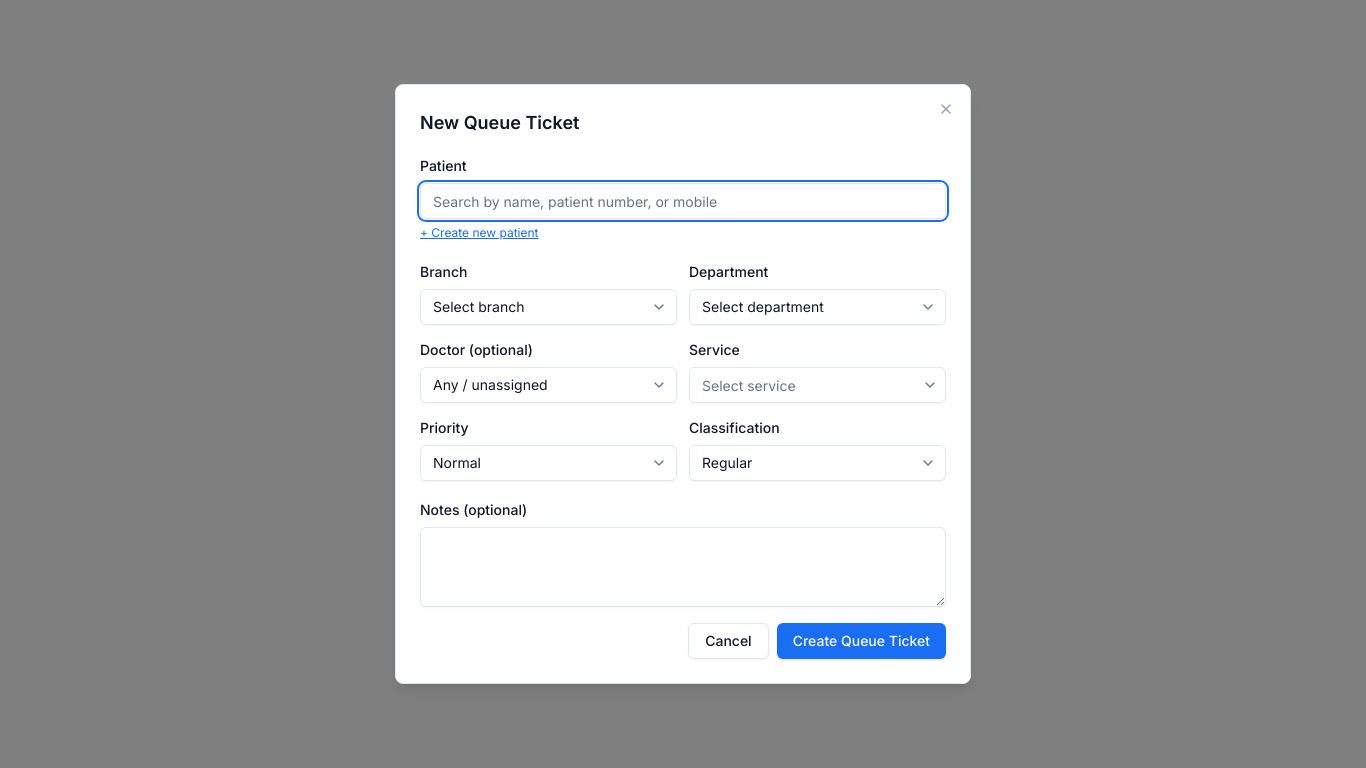
NewQueueDialog › department-aware Service filtering › does not offer a department-assigned service under a different department
Type "Juan" into the field with placeholder "Search by name, patient number, or mobile" at [683, 201], box [420,183,946,219]
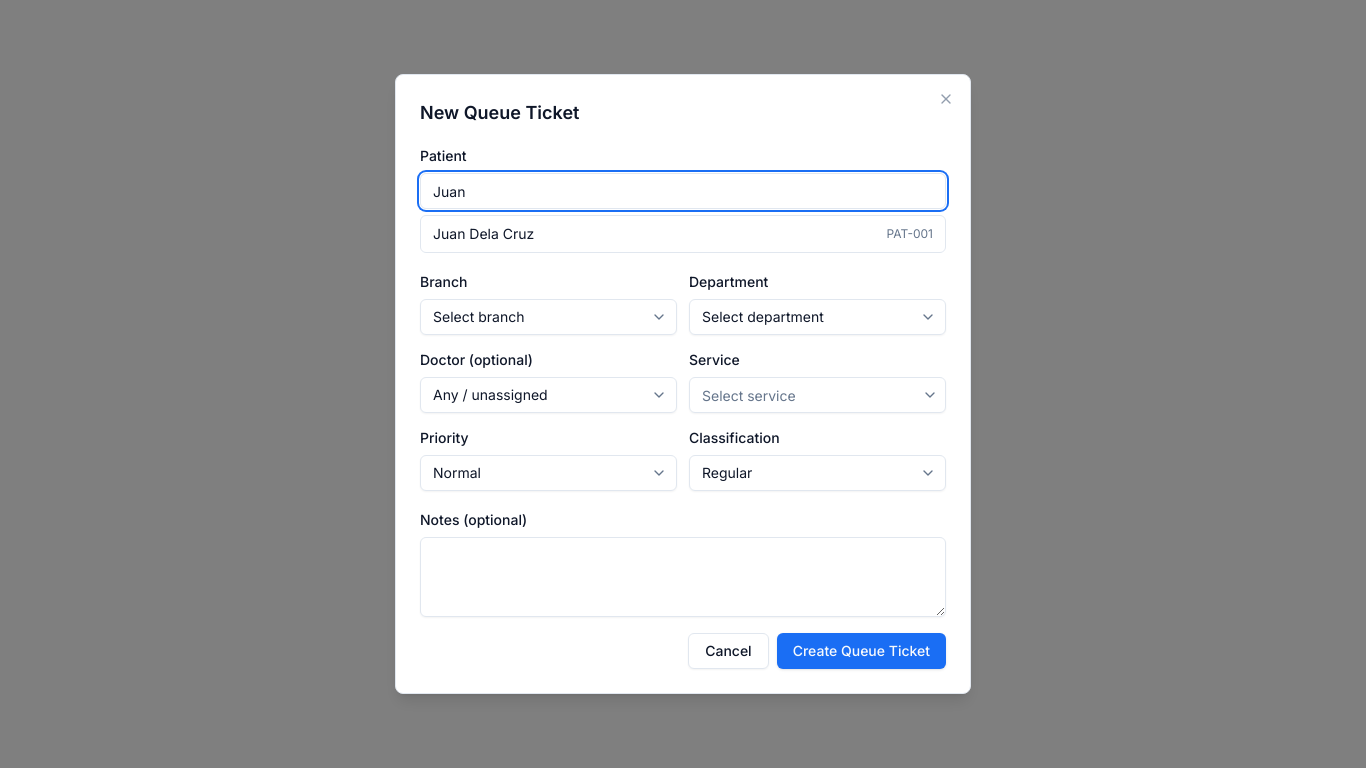
Click the text "Juan Dela Cruz" at [484, 234], box [433,224,534,244]
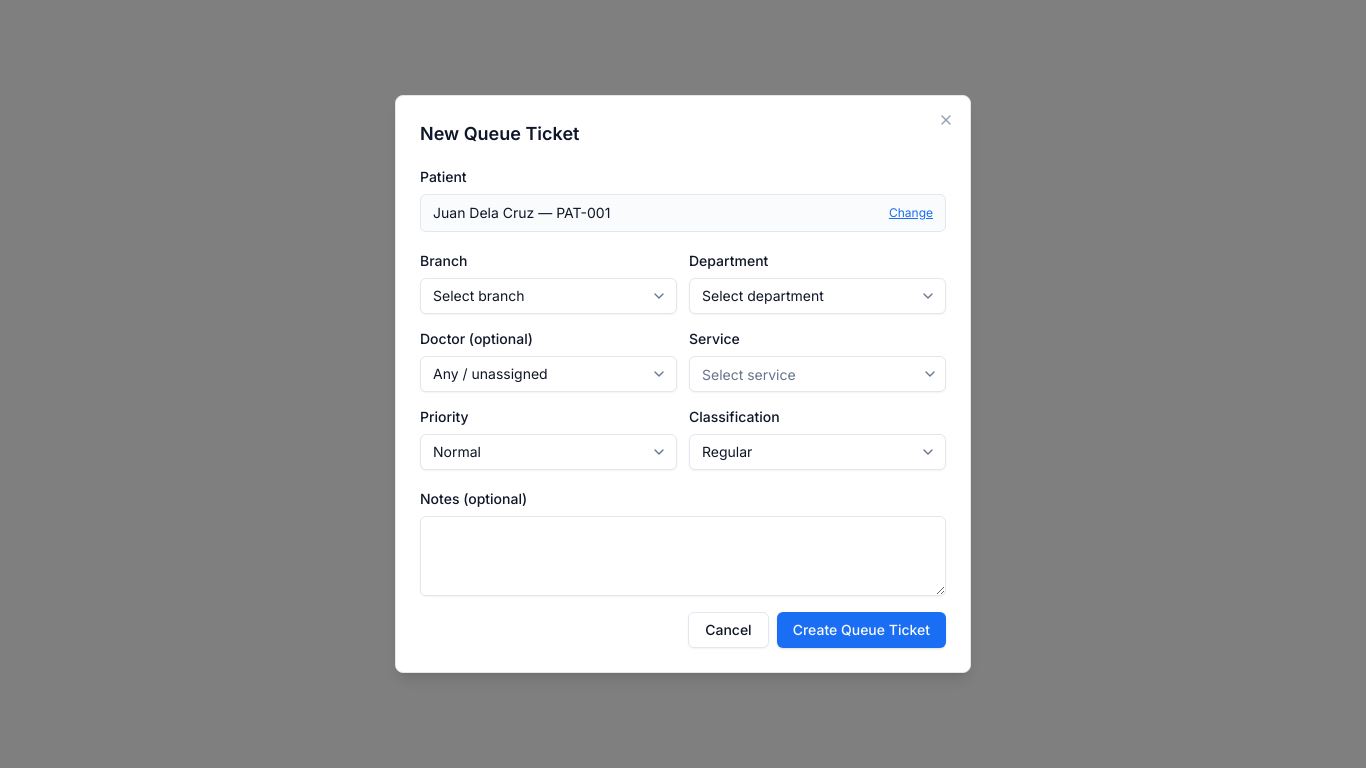
Select "Internal Medicine" in the dropdown below "Department" at [818, 296], box [689,278,946,314]
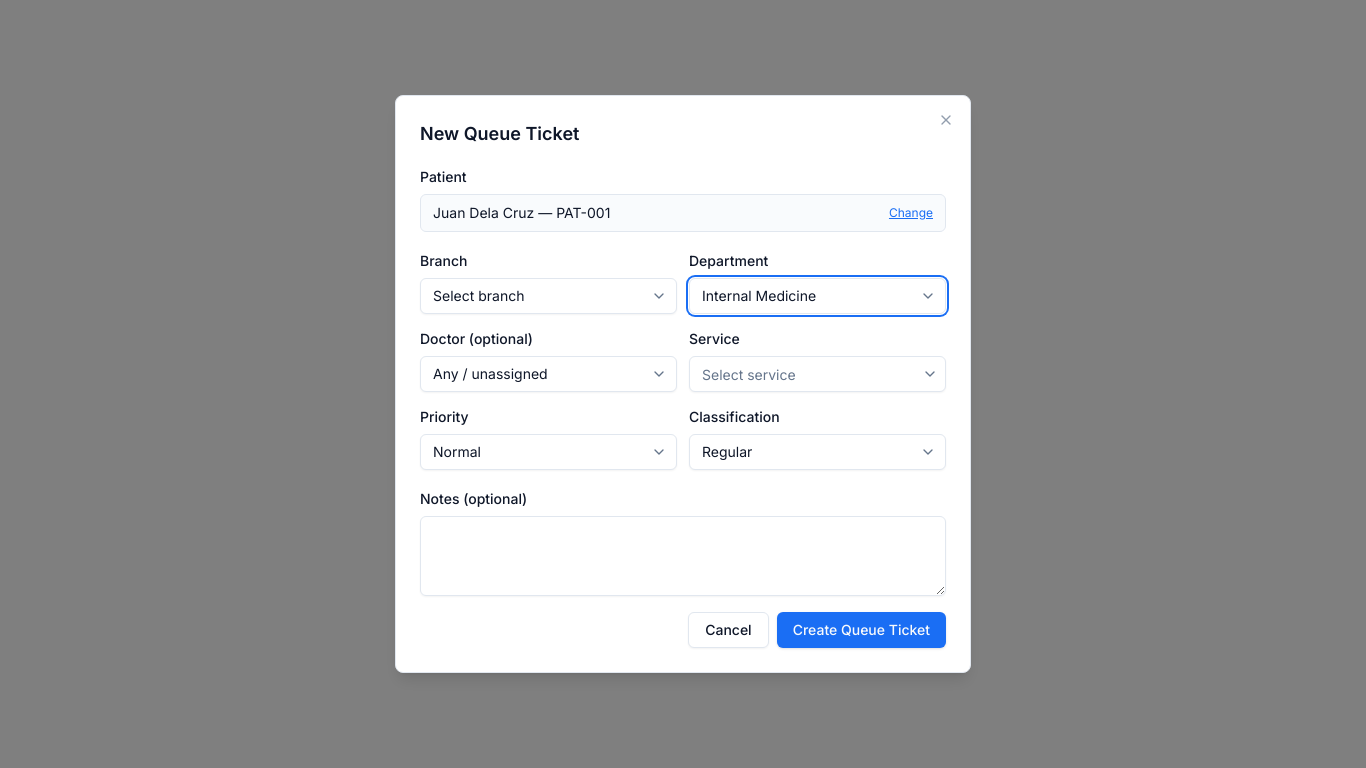
Select "Main Branch" in the dropdown below "Branch" at [548, 296], box [420,278,677,314]
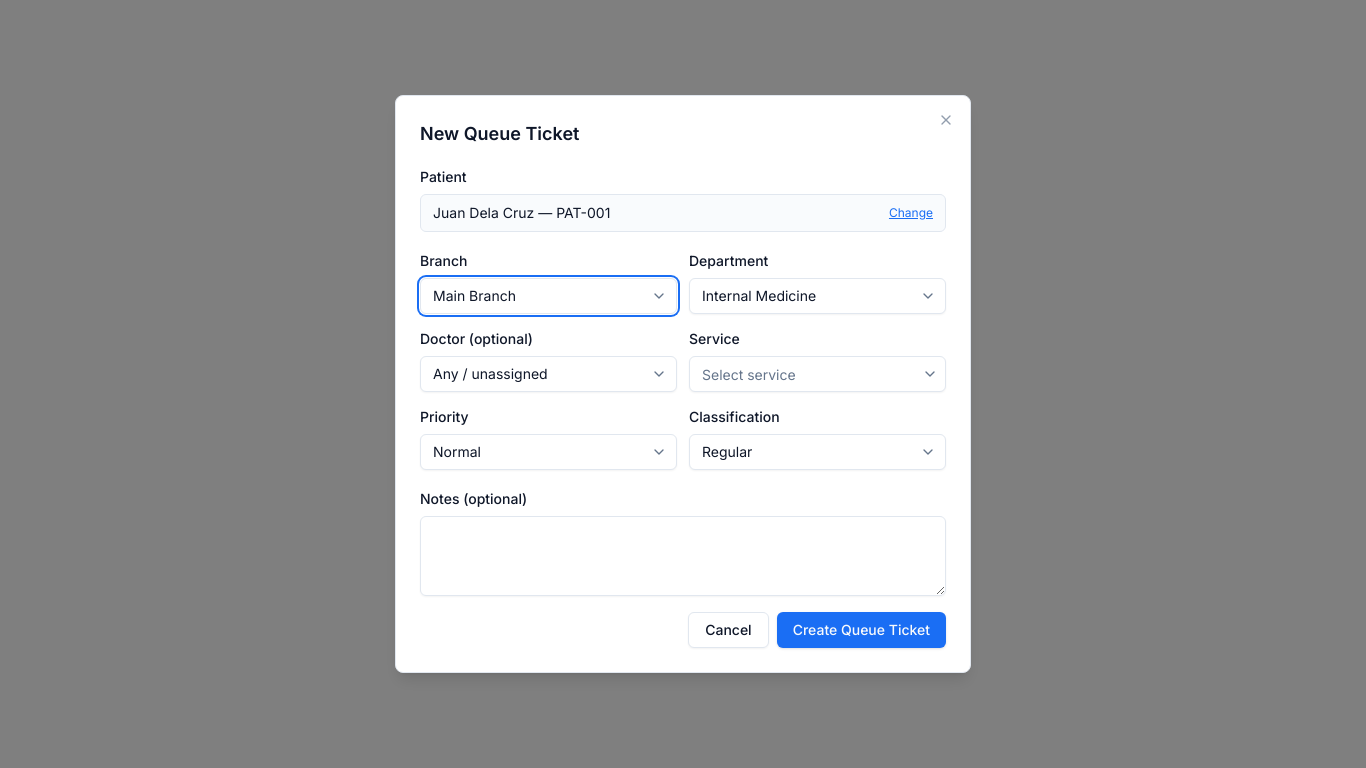
Click the field with placeholder "Select service" at [818, 374], box [689,356,946,392]
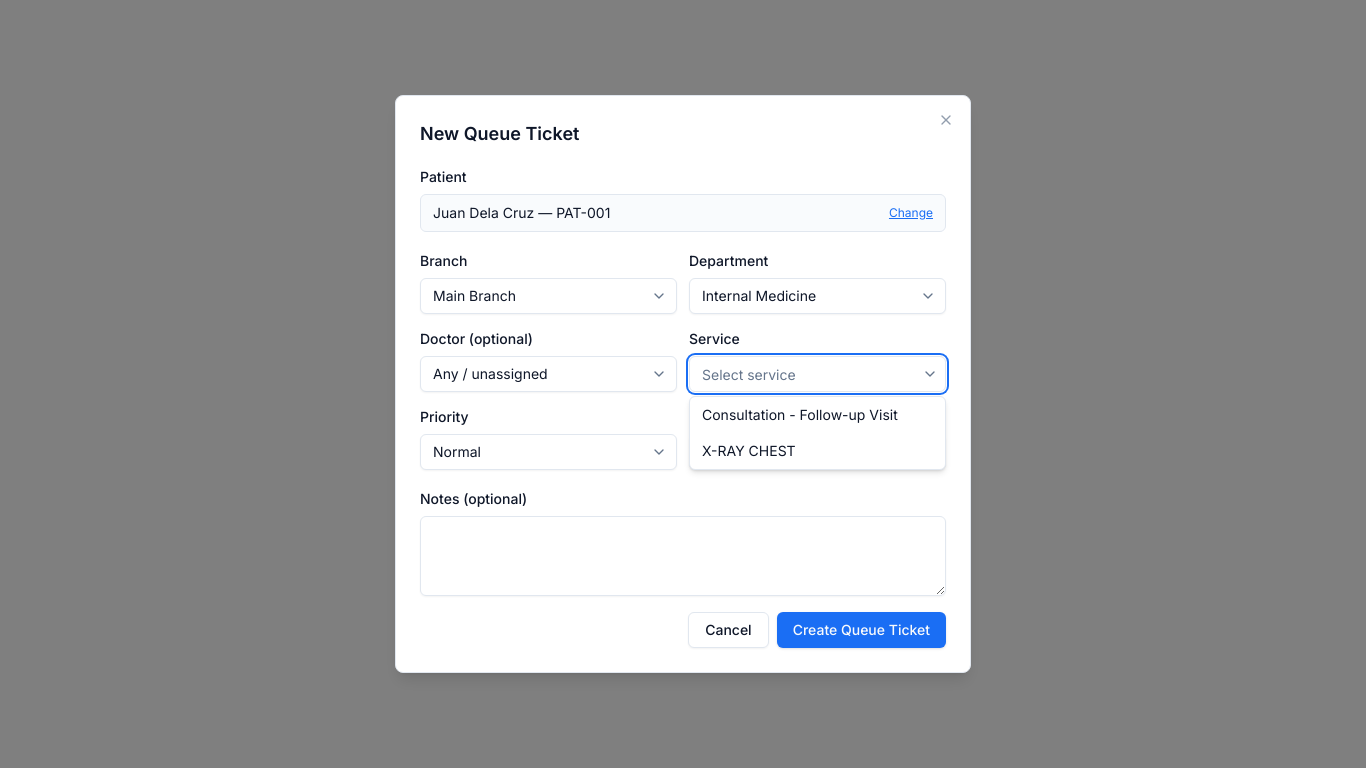
Now the button "Consultation - Follow-up Visit" is shown, box [690,397,945,433]
